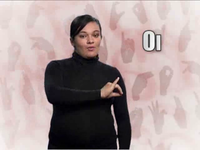oi: (97, 77, 124, 98)
